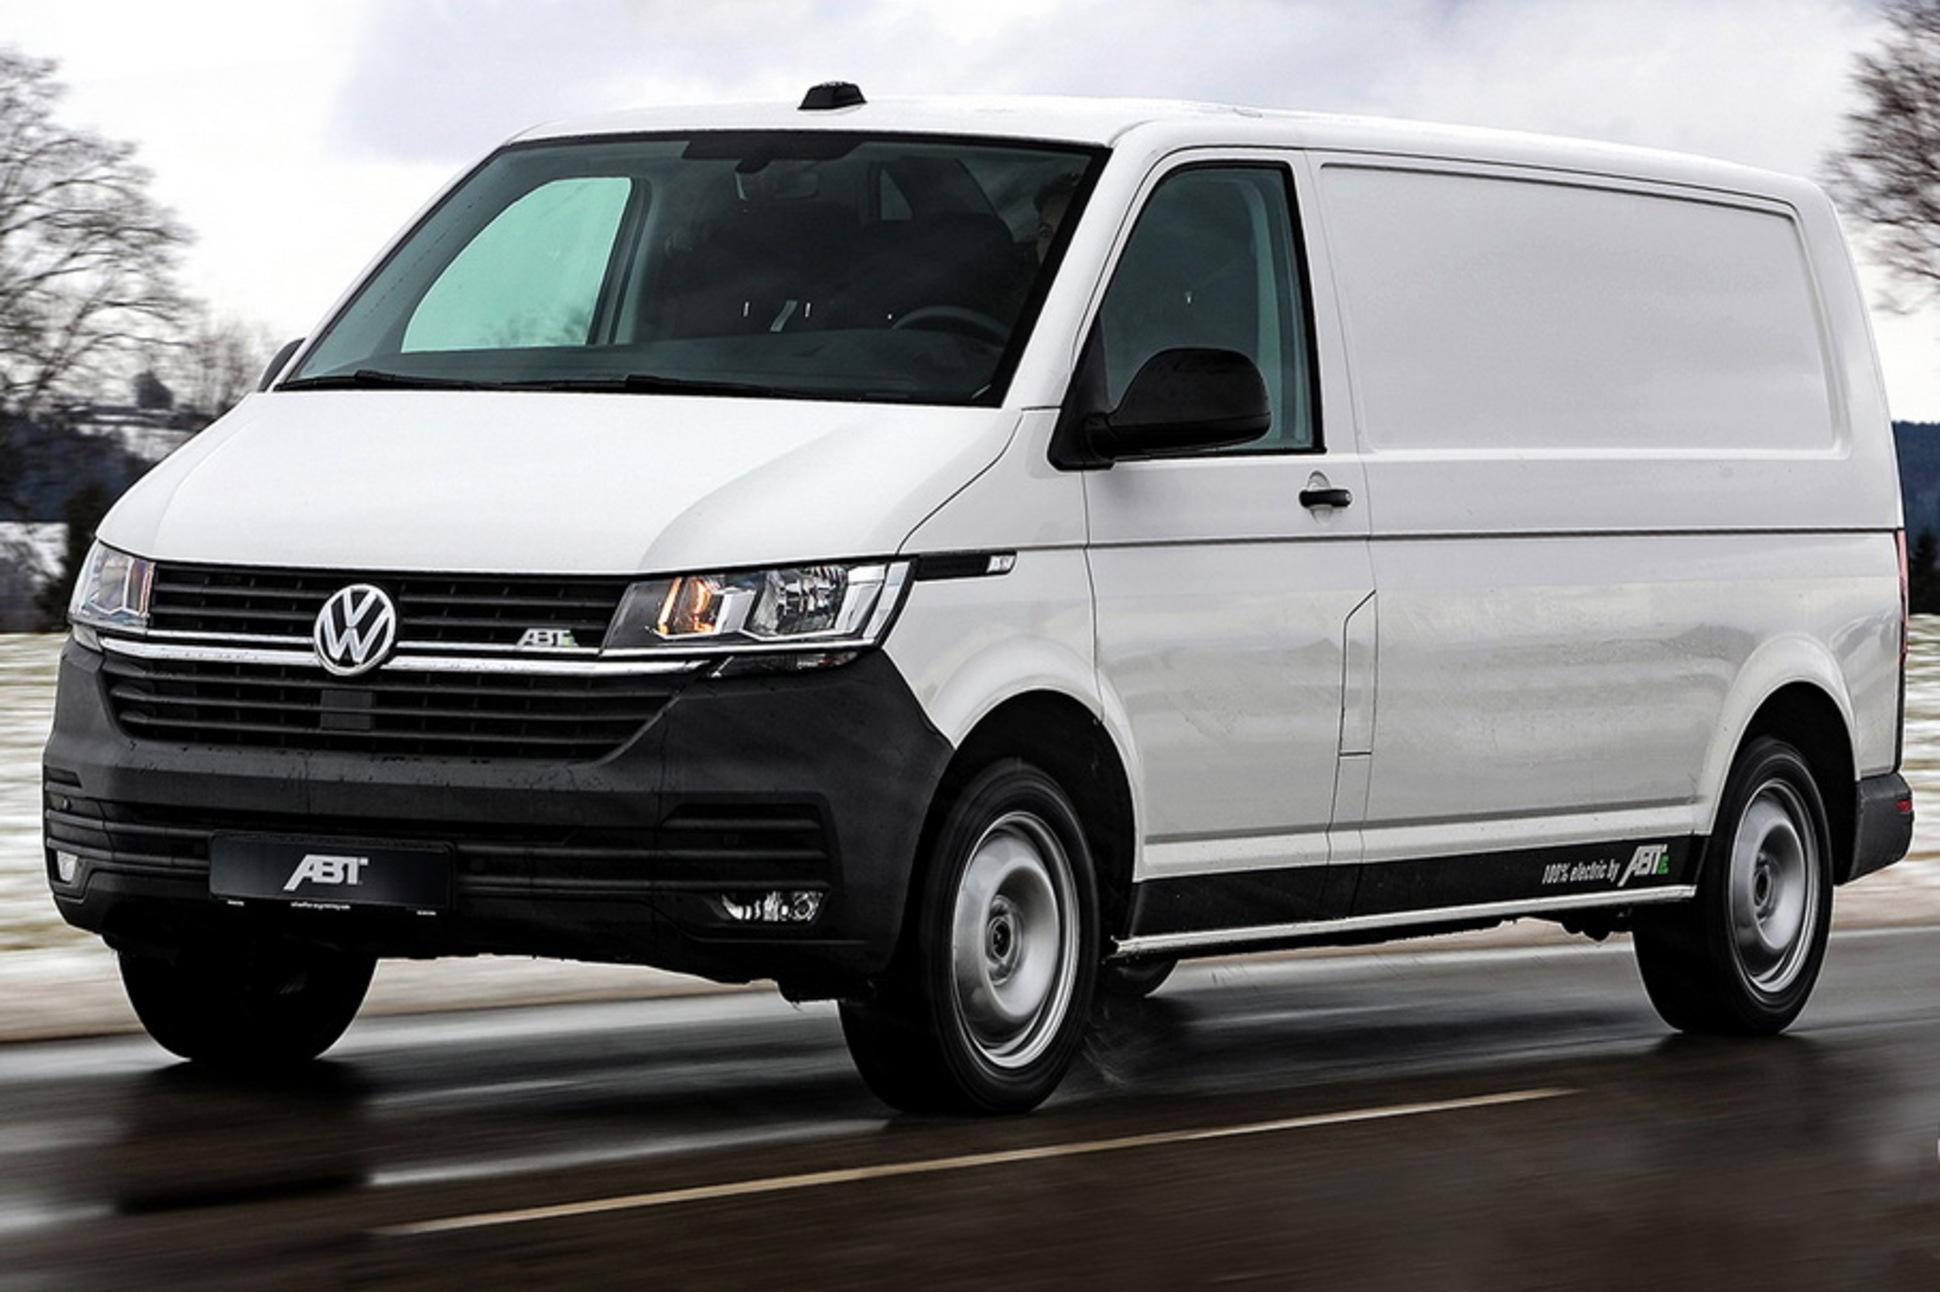van: (50, 91, 1913, 1107)
